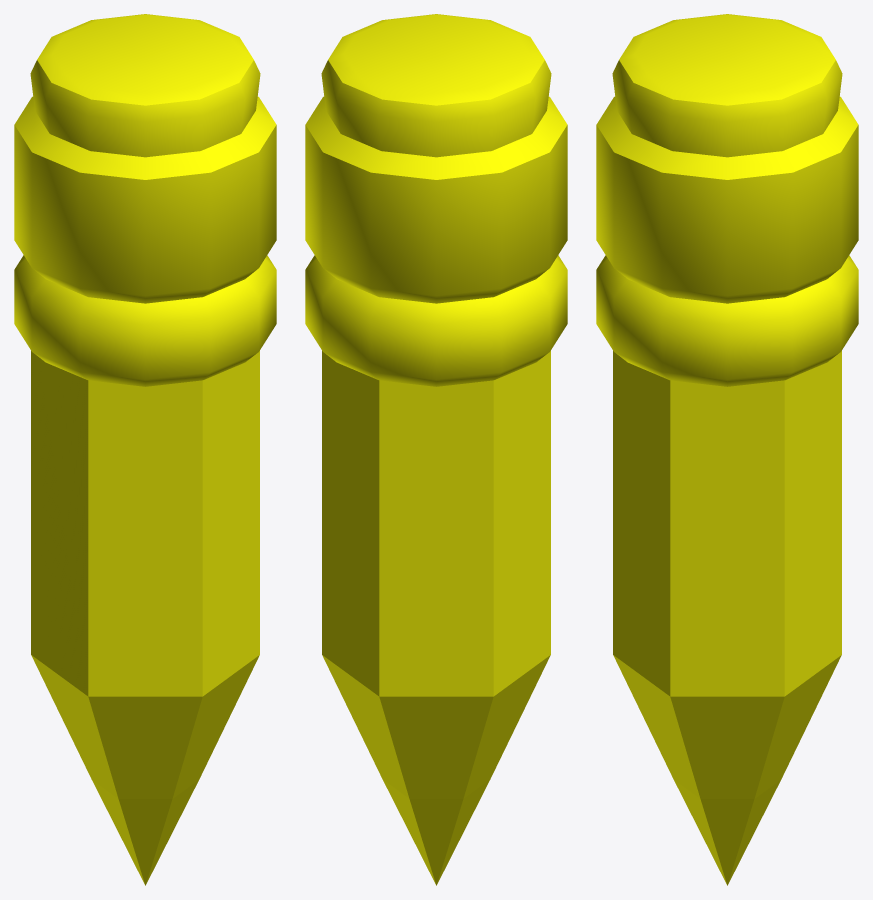
File: kaykit-pencil-b-short.glb
3 views of the same model, side by side, from view 1: azimuth 30°, elevation 25°; view 2: azimuth 150°, elevation 25°; view 3: azimuth 270°, elevation 25° (orthographic).
Visible parts, largest first — view 1: pencil_B_short; view 2: pencil_B_short; view 3: pencil_B_short.
Part boxes in pixels (bbox=[...]): pencil_B_short: bbox=[14, 14, 276, 885]; pencil_B_short: bbox=[305, 14, 567, 885]; pencil_B_short: bbox=[596, 14, 858, 885].
Size of the model in its own units: 0.1138 by 0.3985 by 0.1138.
